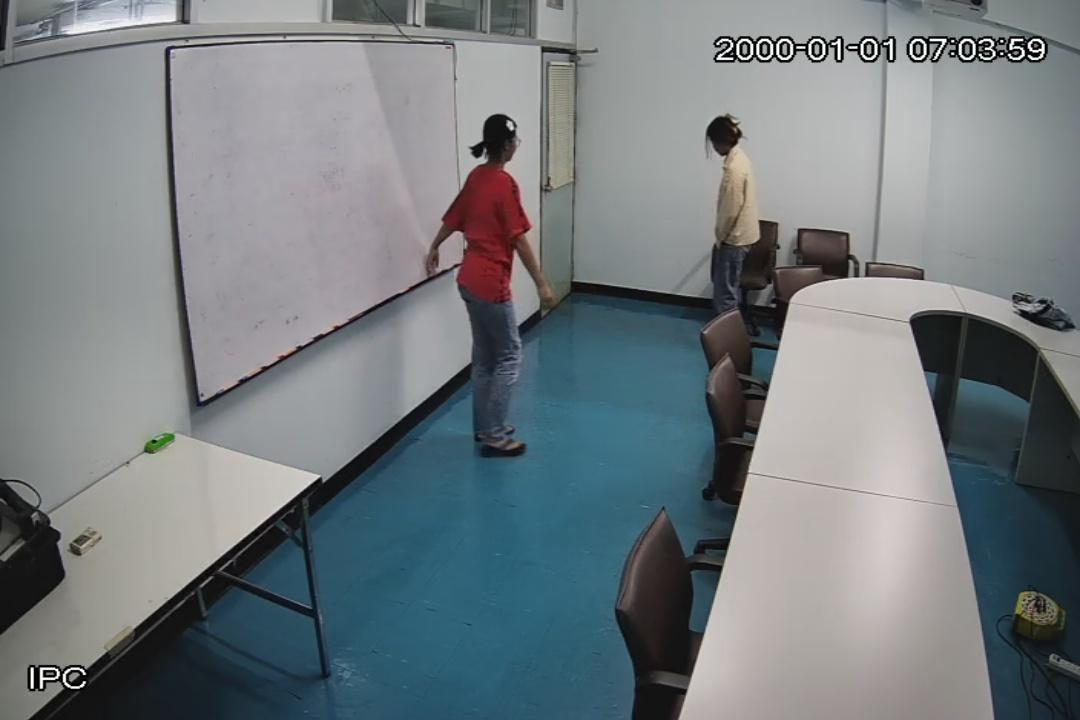normal: (434, 110, 566, 464), (694, 104, 768, 358)
